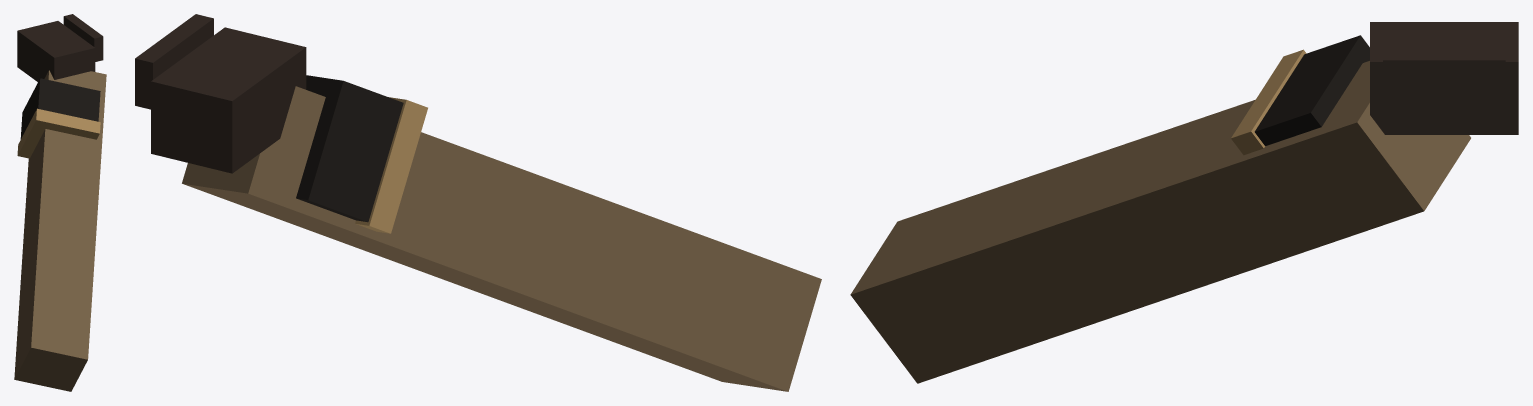
File: BO_SM_Arms_BearL_v001.glb
3 views of the same model, side by side, from view 1: azimuth 30°, elevation 25°; view 2: azimuth 150°, elevation 25°; view 3: azimuth 270°, elevation 25° (orthographic). The views are drawn at different scales.
Parts seen in each view (by area): view 1: body_004, body_000, body_002, body_003, body_001; view 2: body_004, body_000, body_002, body_003, body_001; view 3: body_004, body_000, body_001, body_002, body_003.
Boxes of the visible parts, left/top/right/bottom form: body_004: left=14, top=70, right=106, bottom=391; body_000: left=17, top=21, right=95, bottom=81; body_002: left=20, top=78, right=100, bottom=139; body_003: left=17, top=108, right=100, bottom=158; body_001: left=63, top=14, right=103, bottom=61; body_004: left=182, top=86, right=821, bottom=391; body_000: left=151, top=27, right=306, bottom=173; body_002: left=296, top=75, right=403, bottom=222; body_003: left=355, top=97, right=427, bottom=233; body_001: left=135, top=14, right=213, bottom=109; body_004: left=850, top=61, right=1470, bottom=383; body_000: left=1370, top=22, right=1518, bottom=134; body_001: left=1383, top=51, right=1505, bottom=107; body_002: left=1254, top=35, right=1369, bottom=145; body_003: left=1231, top=49, right=1306, bottom=155.
Bounding box in the file's own units: 0.2557 × 0.2954 × 0.382.
